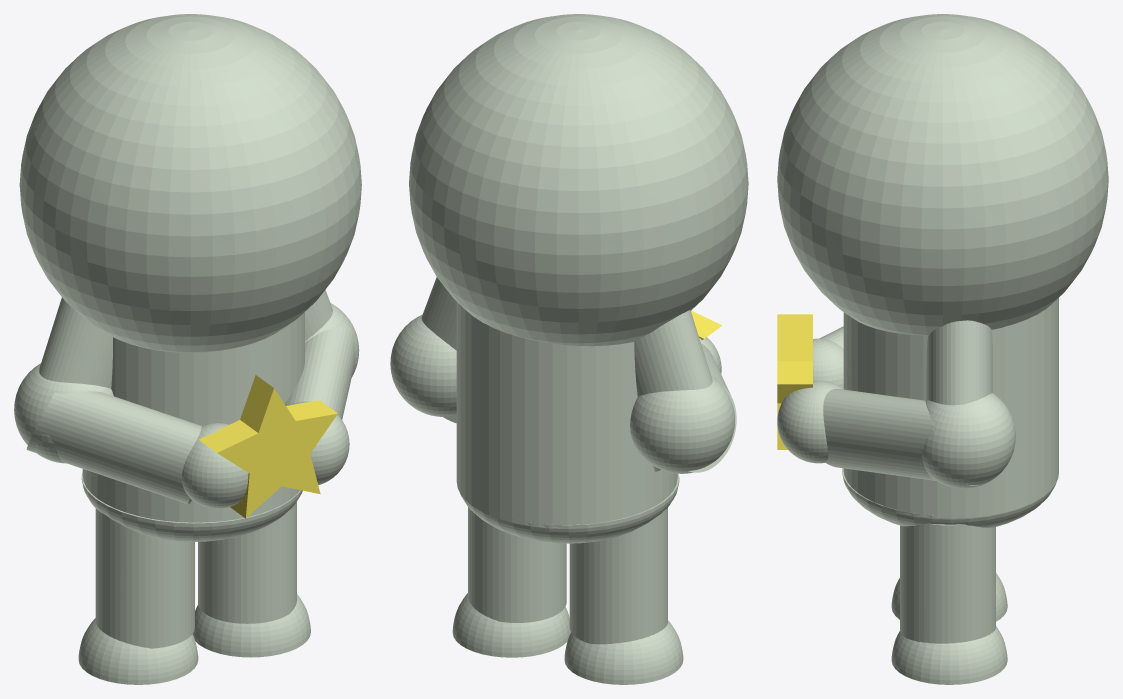
The model's file is smiski.glb.
3 views of the same model, side by side, from view 1: azimuth 30°, elevation 25°; view 2: azimuth 150°, elevation 25°; view 3: azimuth 270°, elevation 25° (orthographic). The views are drawn at different scales.
Visible parts, largest first — view 1: obj_0; view 2: obj_0; view 3: obj_0.
Boxes of the visible parts, x1,y1,x2,y2 form: obj_0: [14, 14, 361, 684]; obj_0: [390, 14, 748, 684]; obj_0: [777, 14, 1108, 684].
Bounding box in the file's own units: 22.4 × 40 × 20.
